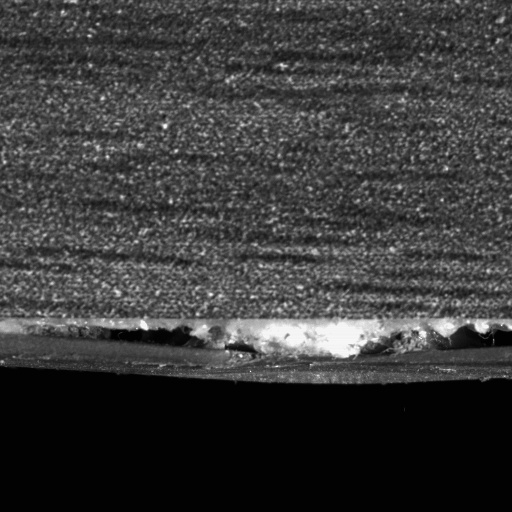kaijiao: (2, 311, 511, 388)
